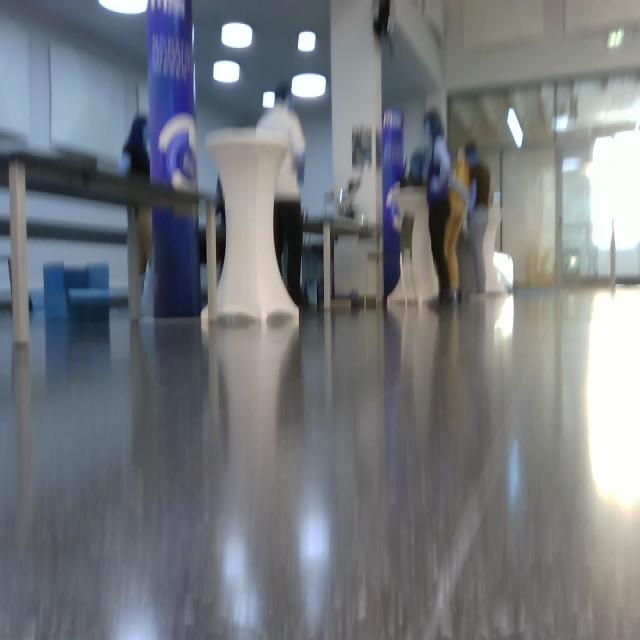door: (501, 145, 558, 289)
light bulb: (203, 126, 300, 325), (585, 288, 640, 512), (586, 129, 639, 252), (221, 21, 253, 49), (99, 1, 149, 16), (507, 108, 524, 149), (213, 60, 241, 84), (297, 30, 317, 53)
person: (256, 82, 306, 305), (119, 116, 153, 296), (423, 109, 453, 306), (464, 140, 491, 294)
tiled floor: (2, 285, 639, 637)
